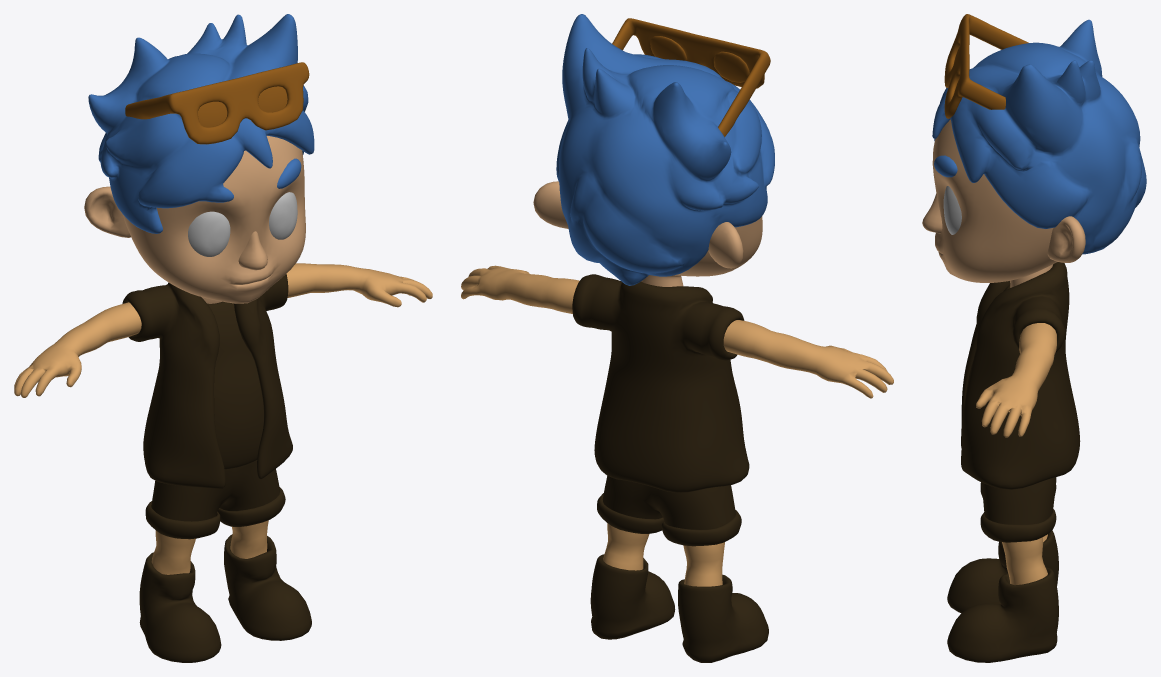
File: Johnny_LowPoly.fbx
3 views of the same model, side by side, from view 1: azimuth 30°, elevation 25°; view 2: azimuth 150°, elevation 25°; view 3: azimuth 270°, elevation 25° (orthographic). The views are drawn at different scales.
Visible parts, largest first — view 1: Ropa_L, Pelo_L, Cabeza_L, Cuerpo_L, Gafas_L, Ojos_L; view 2: Ropa_L, Pelo_L, Cuerpo_L, Gafas_L, Cabeza_L; view 3: Ropa_L, Pelo_L, Cabeza_L, Cuerpo_L, Gafas_L, Ojos_L.
Part boxes in pixels (bbox=[...]): Ropa_L: bbox=[122, 274, 311, 662]; Pelo_L: bbox=[88, 14, 314, 233]; Cabeza_L: bbox=[84, 135, 305, 303]; Cuerpo_L: bbox=[14, 263, 432, 574]; Gafas_L: bbox=[125, 62, 309, 144]; Ojos_L: bbox=[188, 192, 297, 256]; Ropa_L: bbox=[572, 274, 768, 662]; Pelo_L: bbox=[556, 14, 774, 285]; Cuerpo_L: bbox=[461, 265, 893, 586]; Gafas_L: bbox=[612, 18, 770, 136]; Cabeza_L: bbox=[533, 181, 762, 286]; Ropa_L: bbox=[947, 262, 1080, 662]; Pelo_L: bbox=[932, 19, 1146, 254]; Cabeza_L: bbox=[922, 119, 1085, 287]; Cuerpo_L: bbox=[976, 323, 1056, 585]; Gafas_L: bbox=[944, 14, 1028, 118]; Ojos_L: bbox=[943, 186, 961, 234].
Bounding box in the file's own units: 141 × 193 × 65.34.
